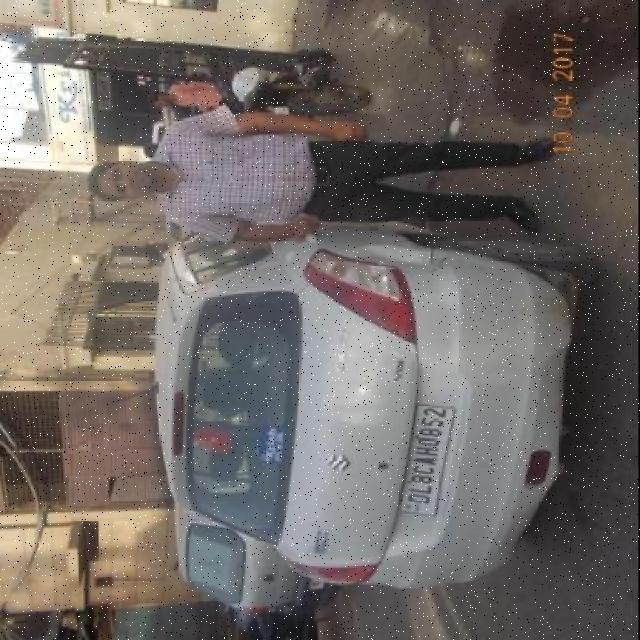damage: (355, 248, 460, 271)
